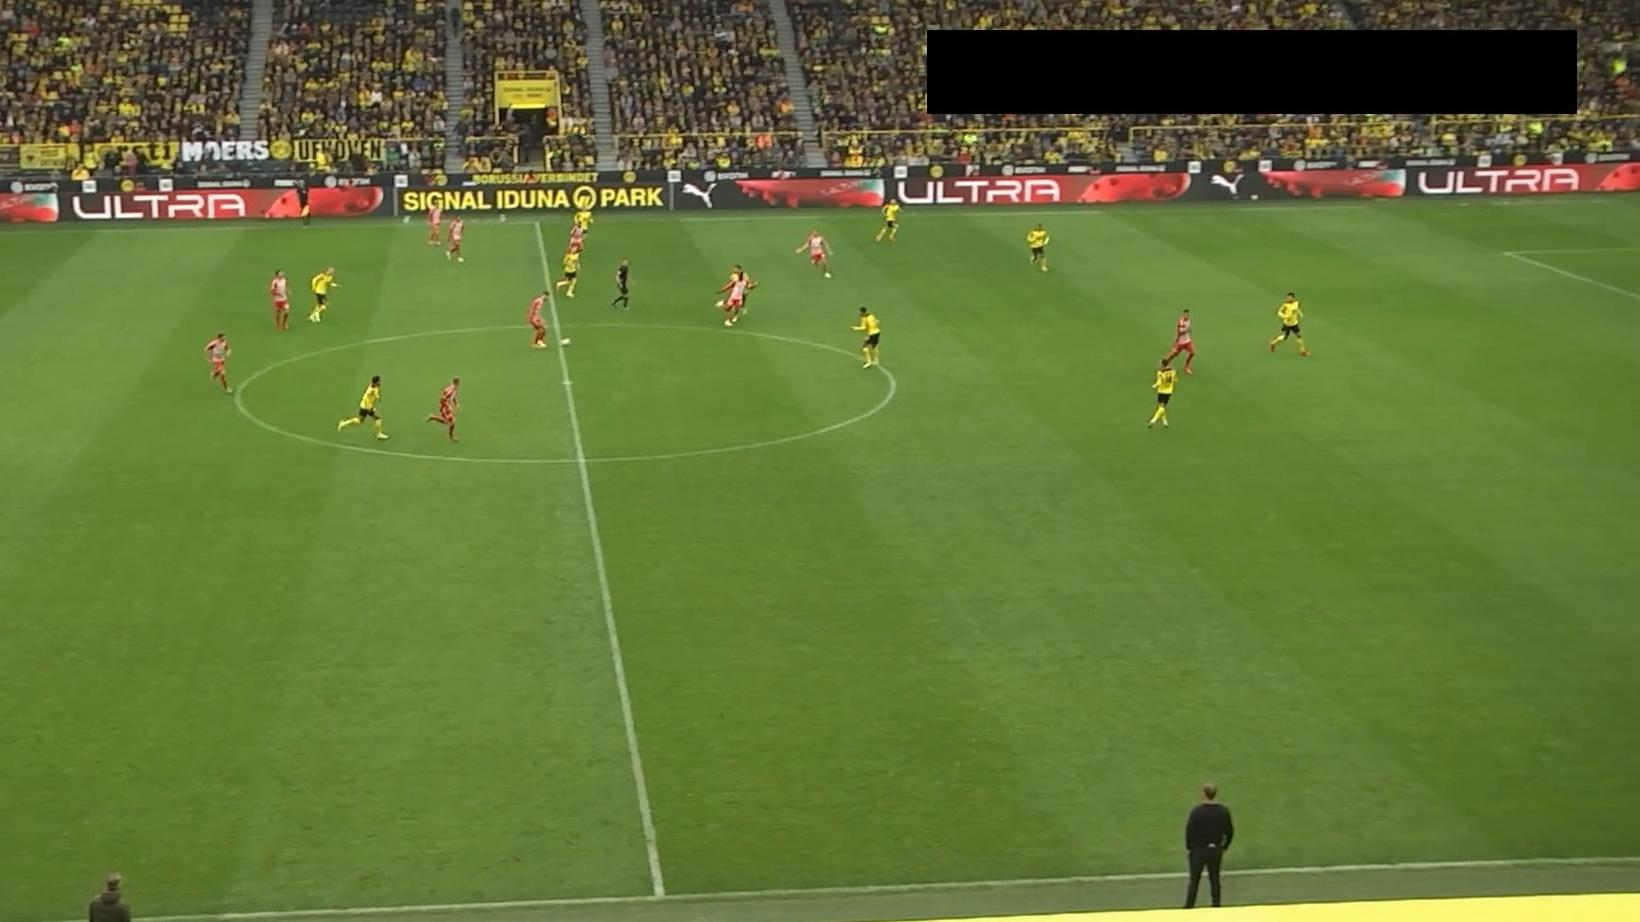ball: (559, 335, 572, 347)
